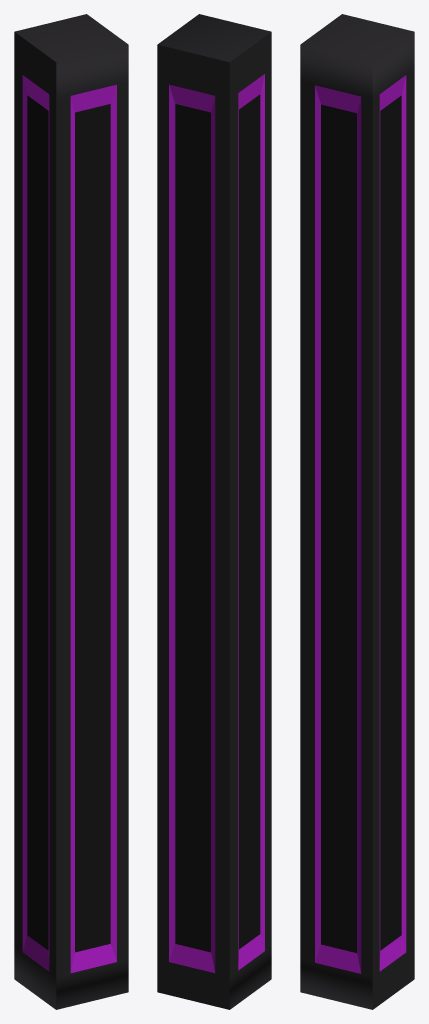
The model's file is Wall_Beam_Square.fbx.
3 renders of one model, left to right at view 1: azimuth 30°, elevation 25°; view 2: azimuth 150°, elevation 25°; view 3: azimuth 330°, elevation 25°, orthographic.
Parts seen in each view (by area): view 1: Wall_Beam_Square; view 2: Wall_Beam_Square; view 3: Wall_Beam_Square.
Boxes of the visible parts, x1,y1,x2,y2 form: Wall_Beam_Square: (14, 14, 128, 1009); Wall_Beam_Square: (157, 14, 271, 1009); Wall_Beam_Square: (300, 14, 414, 1009).
Size of the model in its own units: 0.4 by 5 by 0.4.
